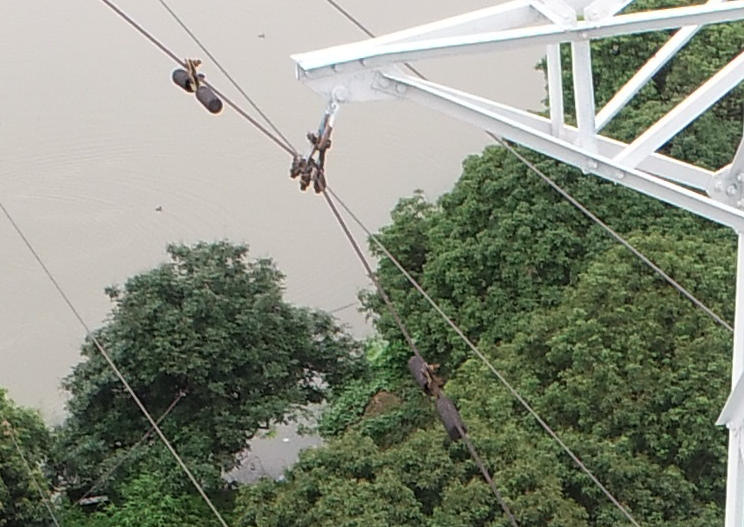damper: (404, 351, 467, 441), (168, 54, 222, 115)
